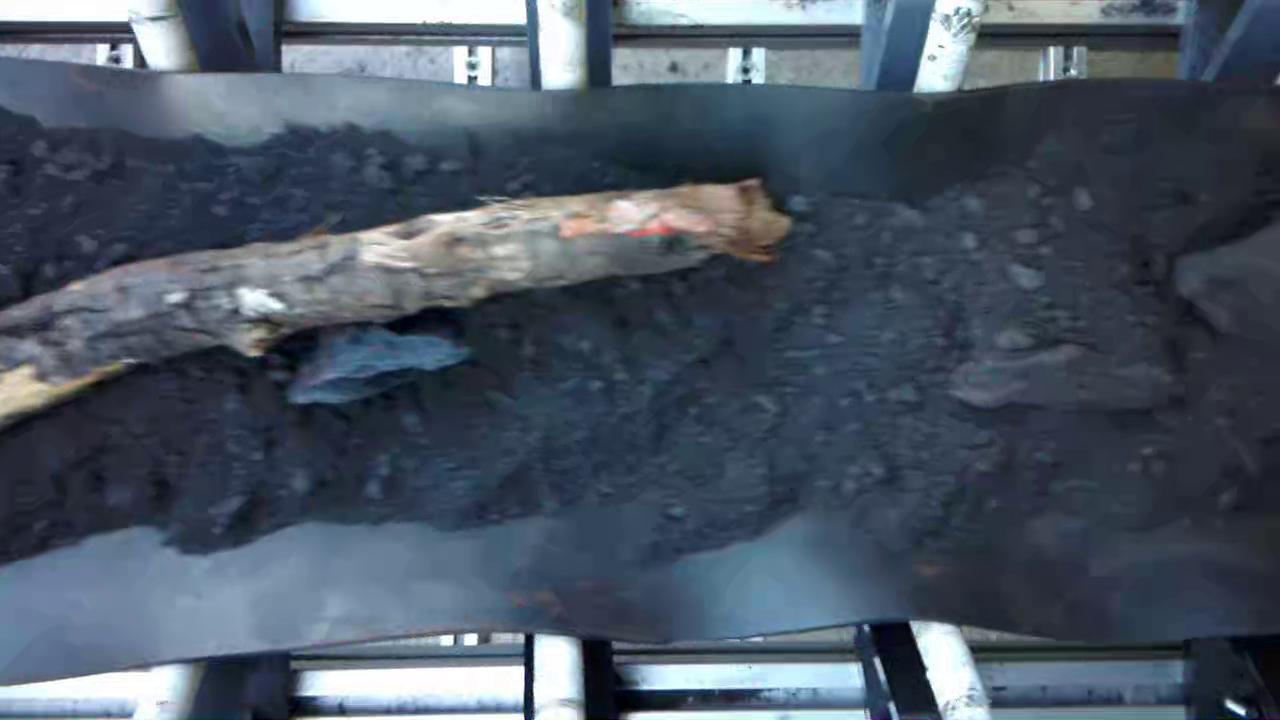conveyor: (9, 105, 1257, 616)
